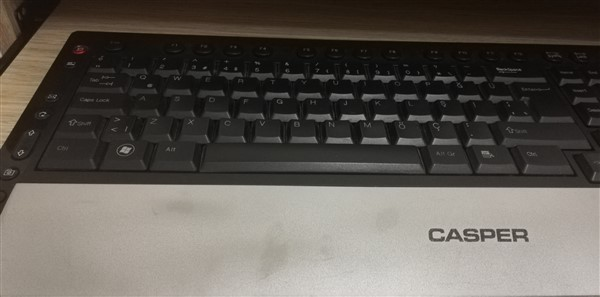klavye: (1, 23, 599, 292)
